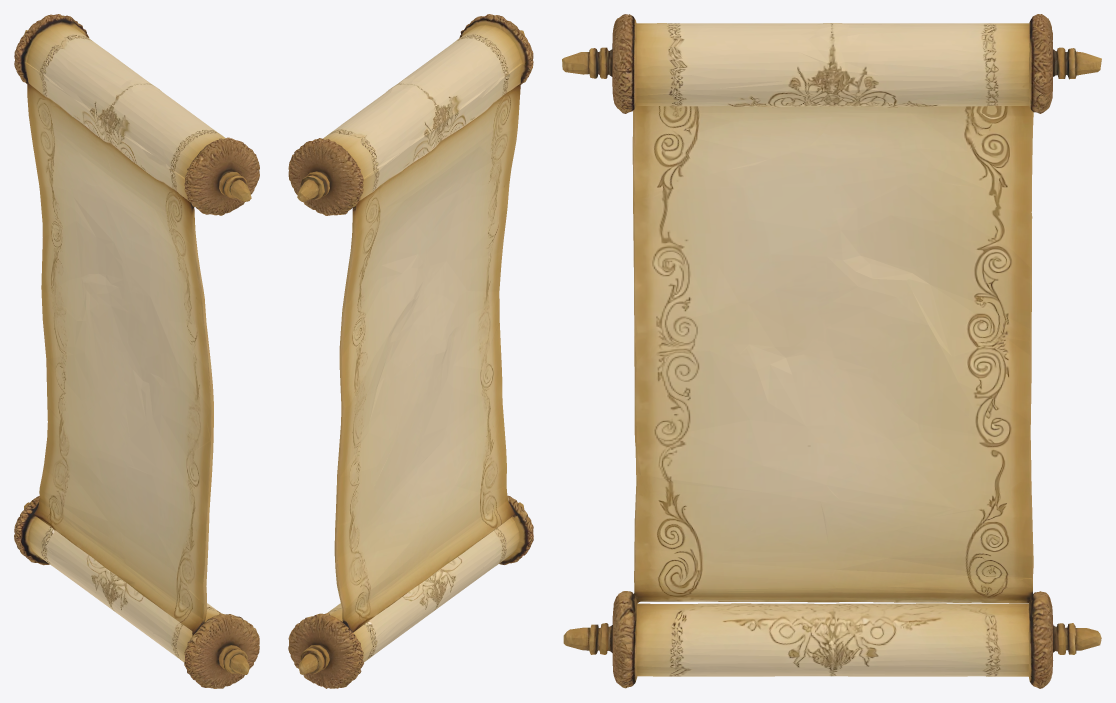
File: acta_independencia.lod1.glb
The picture shows the model from 3 angles, left to right: view 1: azimuth 30°, elevation 25°; view 2: azimuth 150°, elevation 25°; view 3: azimuth 270°, elevation 25°; orthographic projection. The views are drawn at different scales.
Visible parts, largest first — view 1: tripo_node_5ac53249-fa79-443a-bffe-d894883a4004_0; view 2: tripo_node_5ac53249-fa79-443a-bffe-d894883a4004_0; view 3: tripo_node_5ac53249-fa79-443a-bffe-d894883a4004_0.
Part boxes in pixels (x1,y1,x2,y2): tripo_node_5ac53249-fa79-443a-bffe-d894883a4004_0: (14, 14, 259, 688); tripo_node_5ac53249-fa79-443a-bffe-d894883a4004_0: (288, 14, 533, 688); tripo_node_5ac53249-fa79-443a-bffe-d894883a4004_0: (562, 14, 1101, 688).
Size of the model in its own units: 0.1403 by 1 by 0.7343.
1 material, 1 textured.
